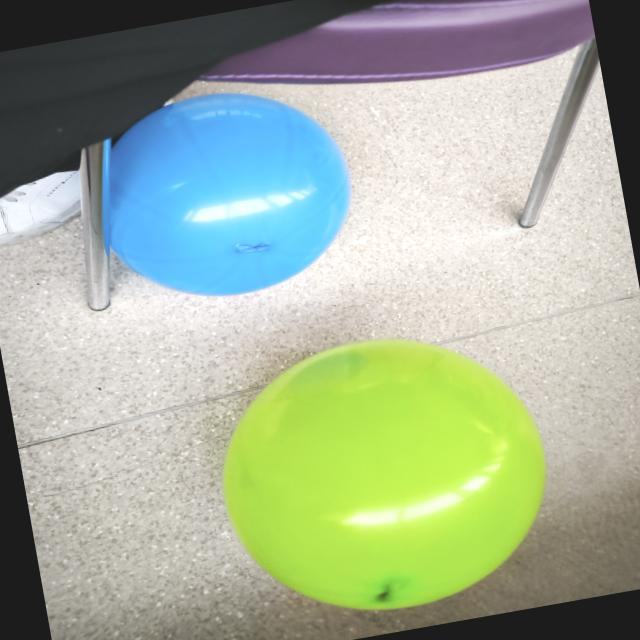balloon: (223, 339, 545, 609), (109, 93, 350, 295)
